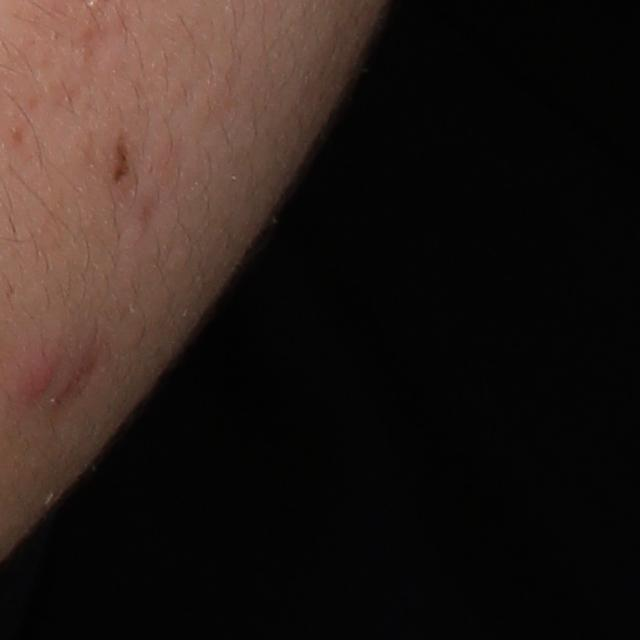nevus: (110, 133, 130, 188)
papule: (20, 358, 53, 395)
